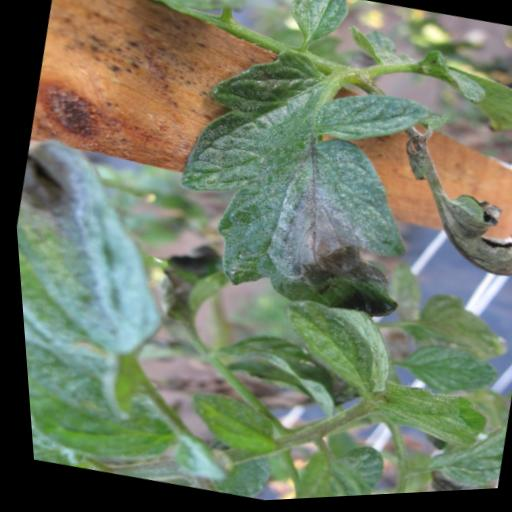Late Blight: (134, 8, 482, 373)
